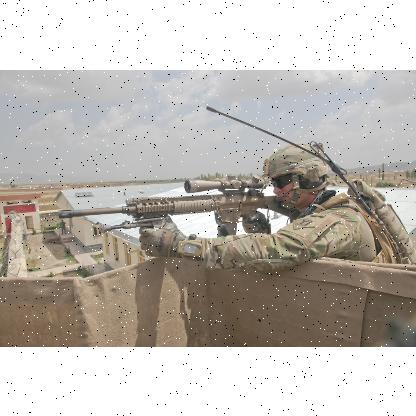gun: (60, 178, 300, 234)
